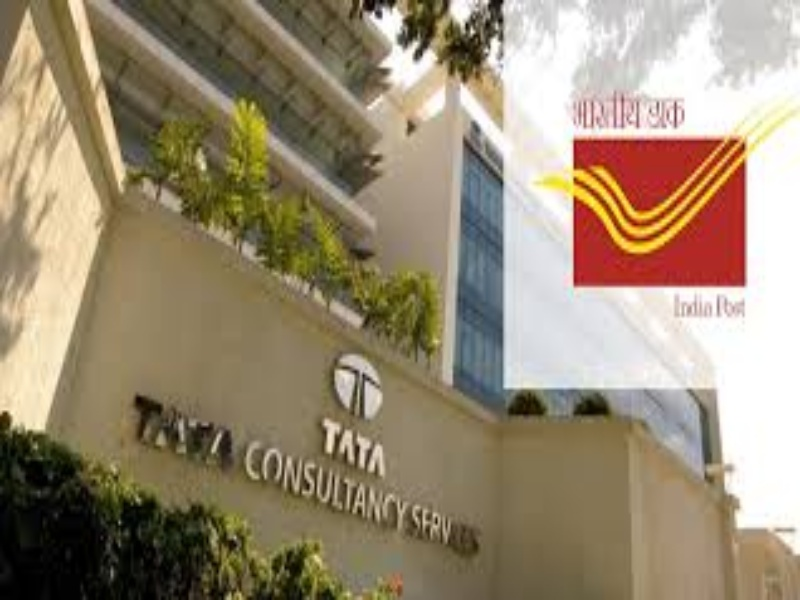tcs: (330, 349, 385, 422)
